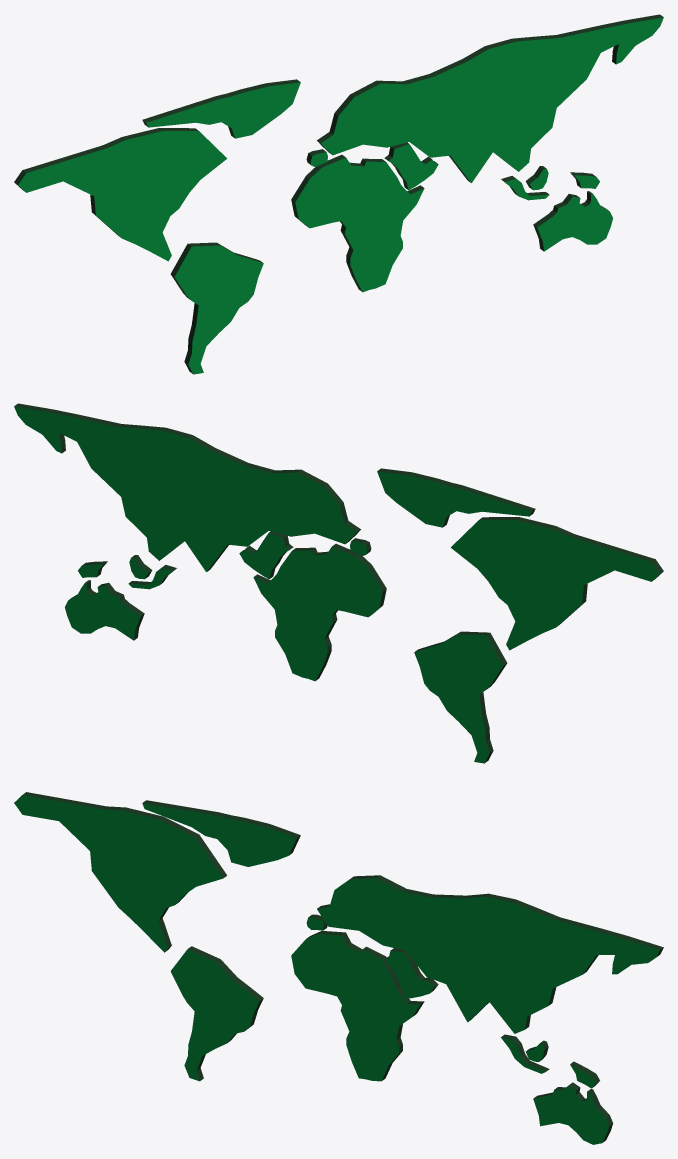
File: Map2.fbx
3 renders of one model, top to bottom at view 1: azimuth 30°, elevation 25°; view 2: azimuth 150°, elevation 25°; view 3: azimuth 330°, elevation 25°, orthographic.
Parts seen in each view (by area): view 1: Map2; view 2: Map2; view 3: Map2.
Part boxes in pixels (<box>): Map2: <box>14,14,663,374</box>; Map2: <box>14,403,663,763</box>; Map2: <box>14,792,663,1144</box>.
Bounding box in the file's own units: 11.45 × 4.58 × 0.1247.
